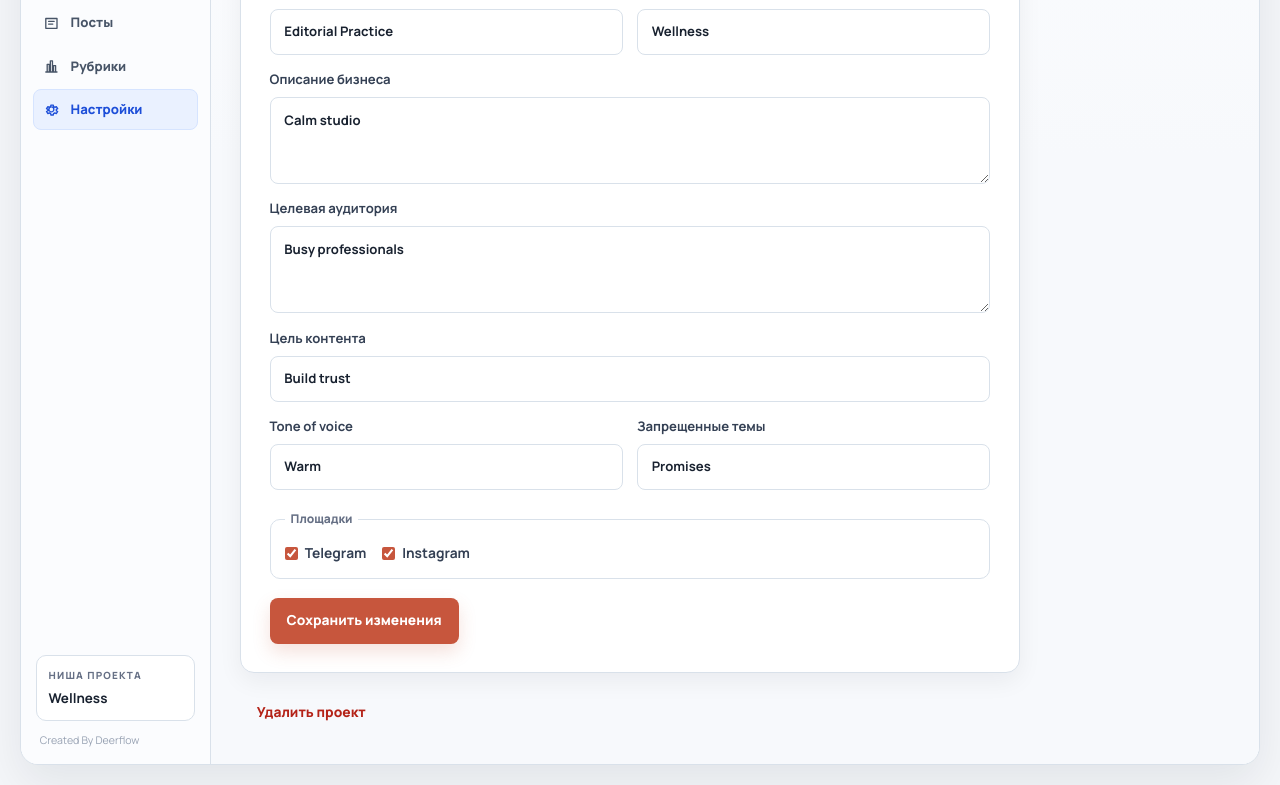
Test: project deletion is confirmed and returns to the project library
This screenshot has width=1280, height=785.
(page scrolled)
Click the button "Удалить проект".
click(311, 712)  # box [240,689,383,735]
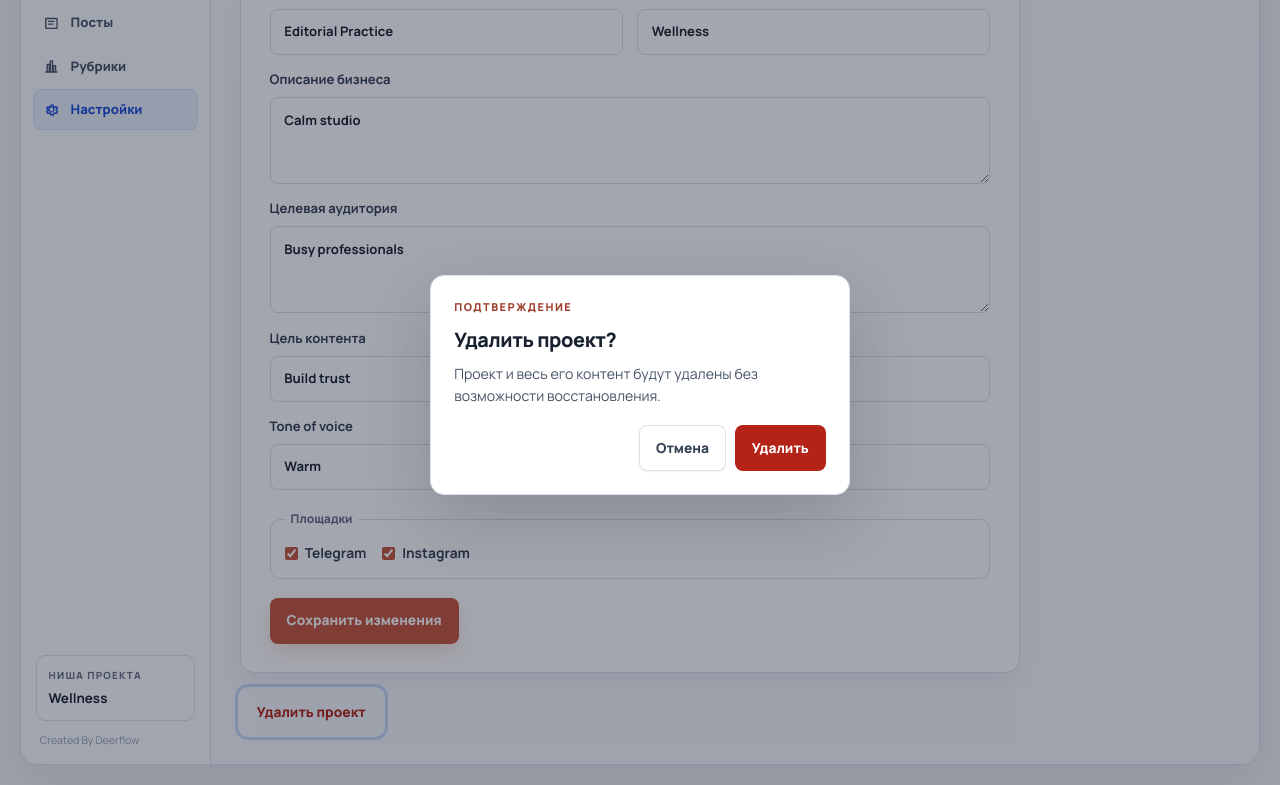
Expected: the text "весь его контент" is shown, [454,364,758,405]
Click the button "Удалить".
click(780, 448)  # box [735,425,826,471]
(page scrolled)
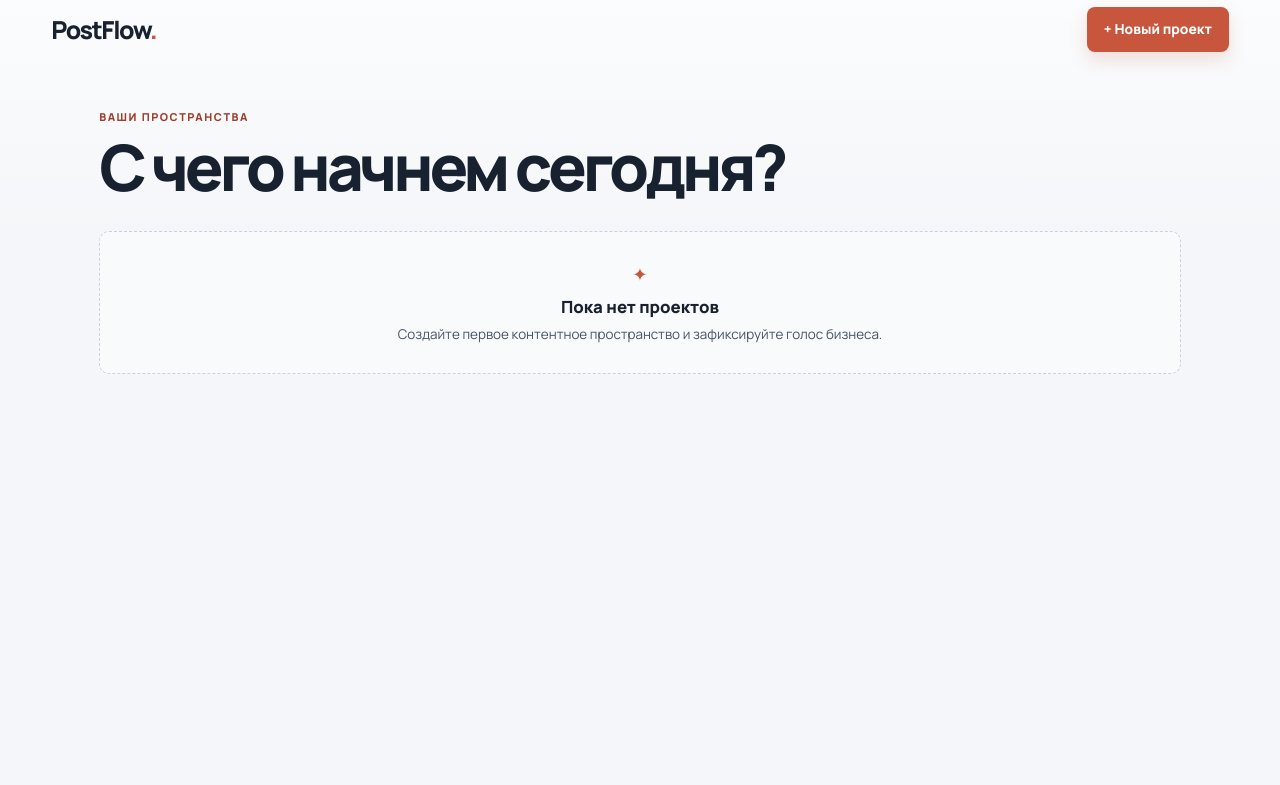
Expected: the heading "Пока нет проектов" is shown, [561,295,719,318]
